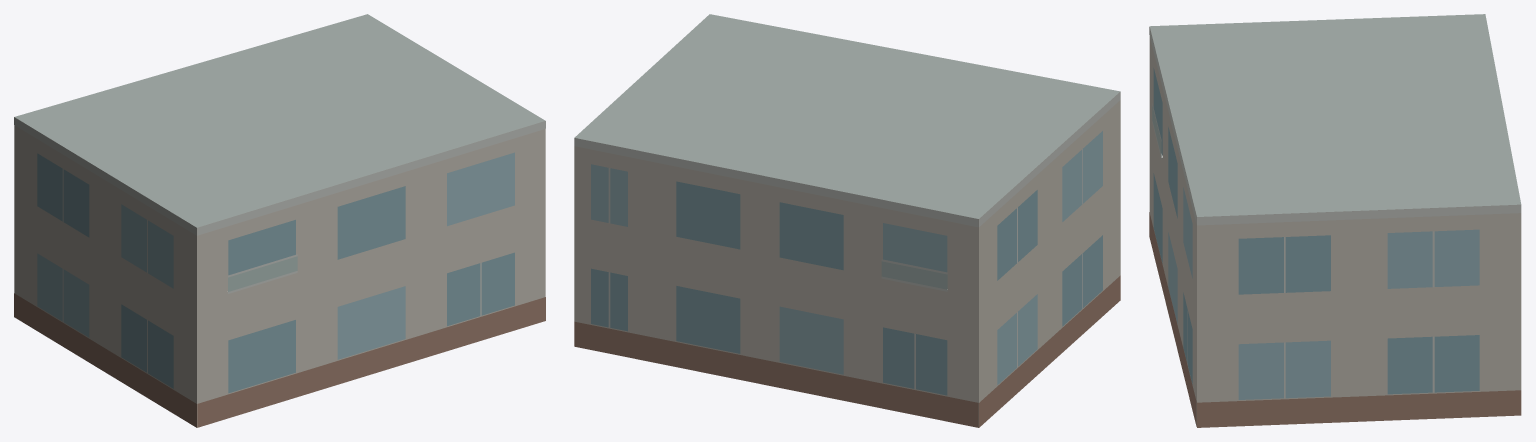
The model's file is survey-upis-32983942.glb.
The picture shows the model from 3 angles, left to right: view 1: azimuth 30°, elevation 25°; view 2: azimuth 150°, elevation 25°; view 3: azimuth 270°, elevation 25°; orthographic projection. The views are drawn at different scales.
Visible parts, largest first — view 1: survey-upis-32983942.tmp; view 2: survey-upis-32983942.tmp; view 3: survey-upis-32983942.tmp.
Boxes of the visible parts, x1,y1,x2,y2 form: survey-upis-32983942.tmp: (14,14,545,427); survey-upis-32983942.tmp: (574,14,1120,427); survey-upis-32983942.tmp: (1149,14,1521,427).
Bounding box in the file's own units: 12.61 × 6.1 × 9.76.
